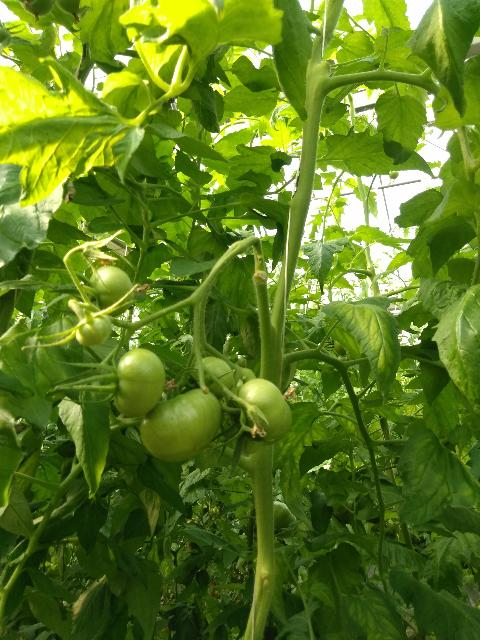b_green: (140, 385, 221, 463), (114, 348, 166, 417), (238, 378, 287, 436), (87, 265, 134, 317), (191, 356, 236, 400), (74, 311, 112, 346), (273, 501, 298, 539)
